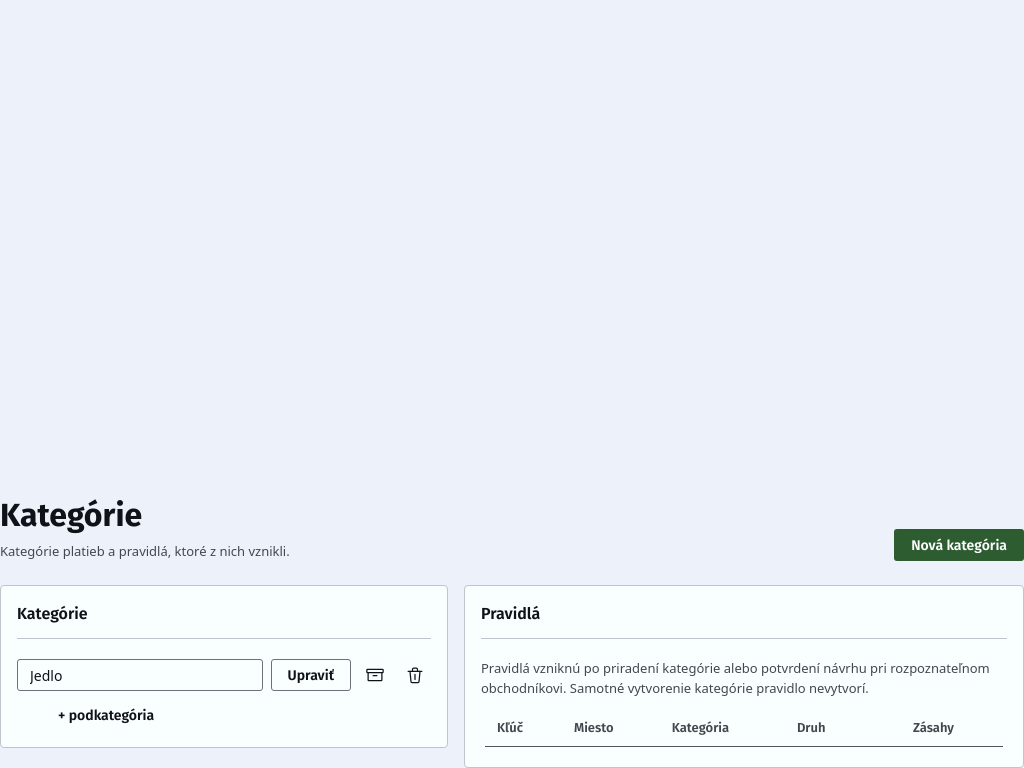
Test: Categories delete control (point 4) › states the reassignment count before deleting and shows the outcome after
(page scrolled)
Step 1. Click the button named "Zmazať kategóriu Jedlo" → {"x": 415, "y": 675}, box [399,659,431,691]
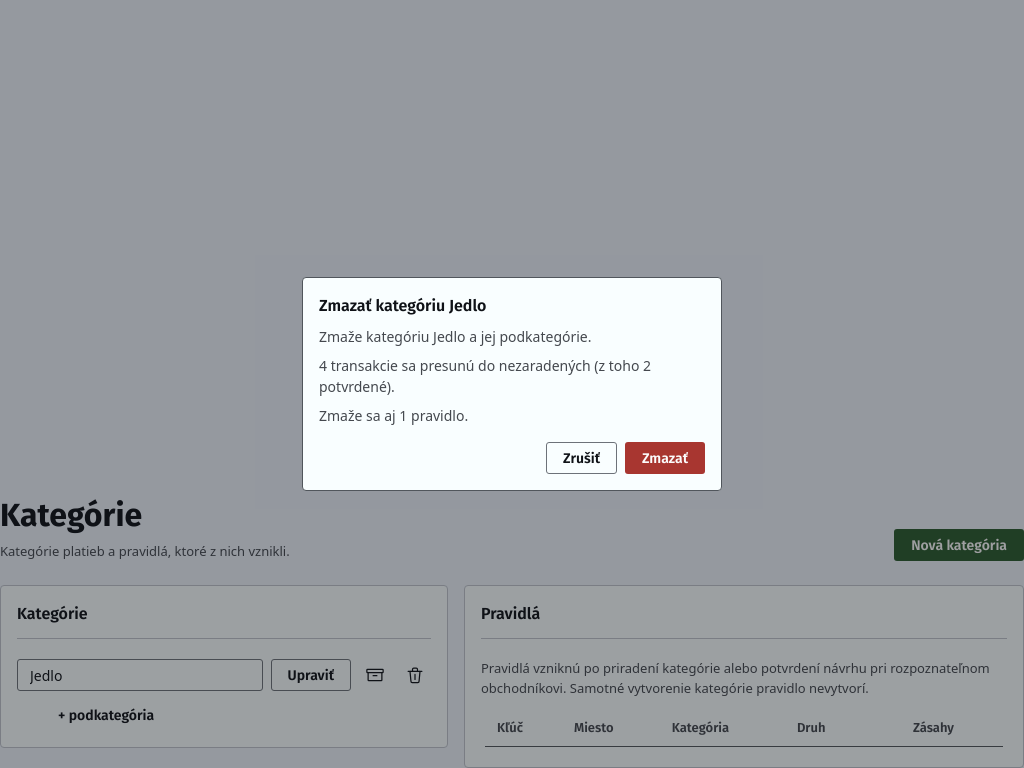
Expected: the text "2 potvrdené" is shown, [319,356,651,396]
Step 2. Click the button "Zmazať" → {"x": 665, "y": 458}, box [625,442,705,474]
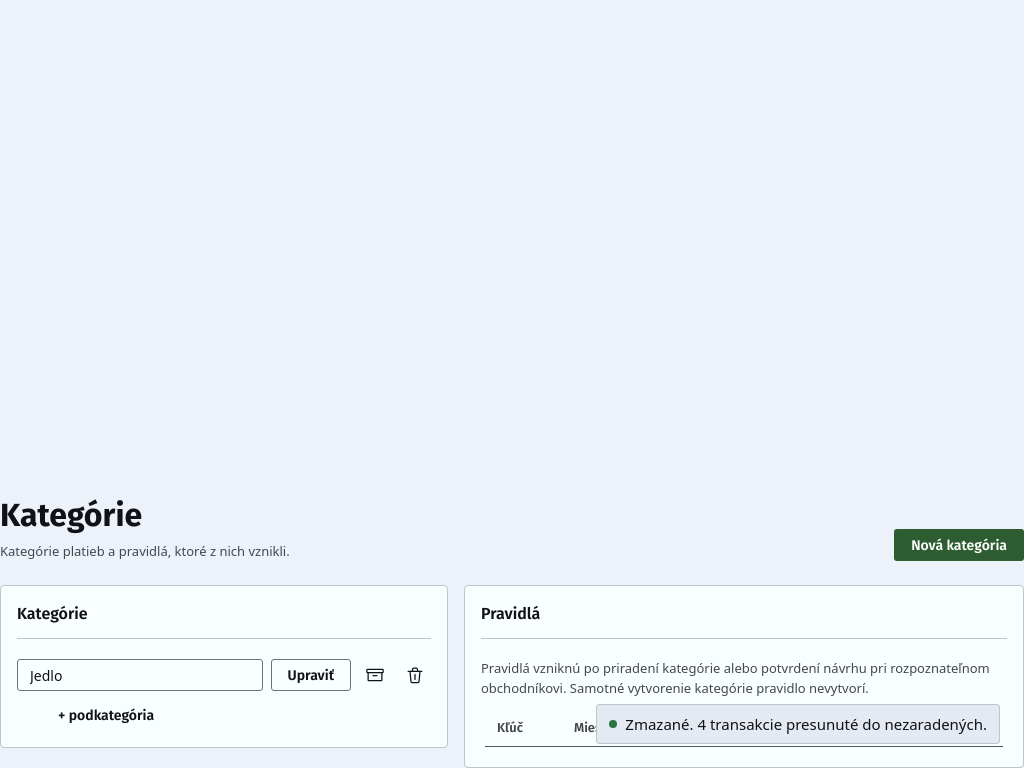
Expected: the text "Zmazané. 4 transakcie presunuté do nezaradených." is shown, [625,712,987,735]
